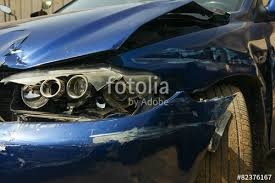Broken-glass: (1, 64, 161, 124)
Dent: (154, 49, 275, 89), (89, 124, 197, 144), (3, 37, 32, 68)
